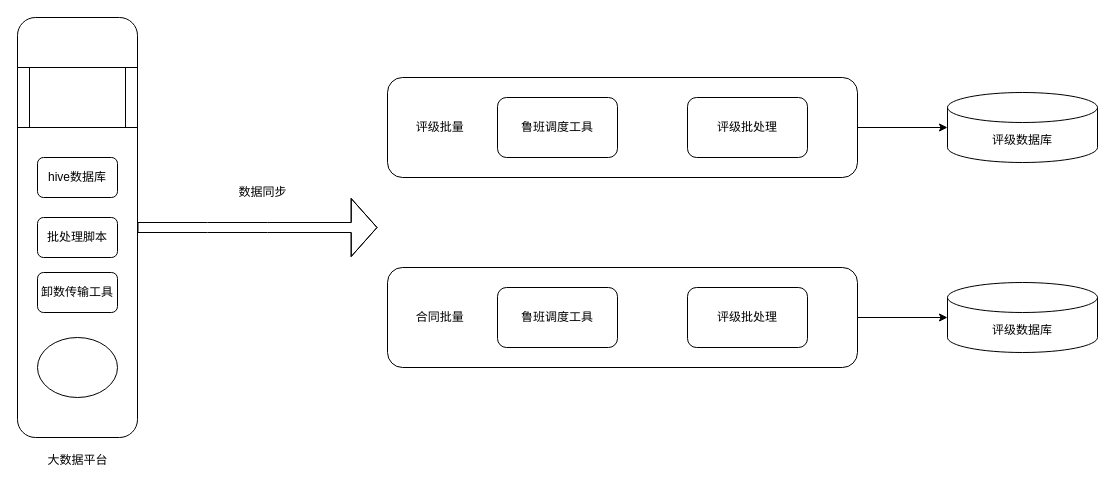
Image size: 1115x493. Some labels were removed from this diagram. Here are the shapes that lost their labels. From the top down, the box of each, then its label:
(16, 66, 138, 128): 对公信贷计算区
(36, 336, 118, 398): 山景调度
